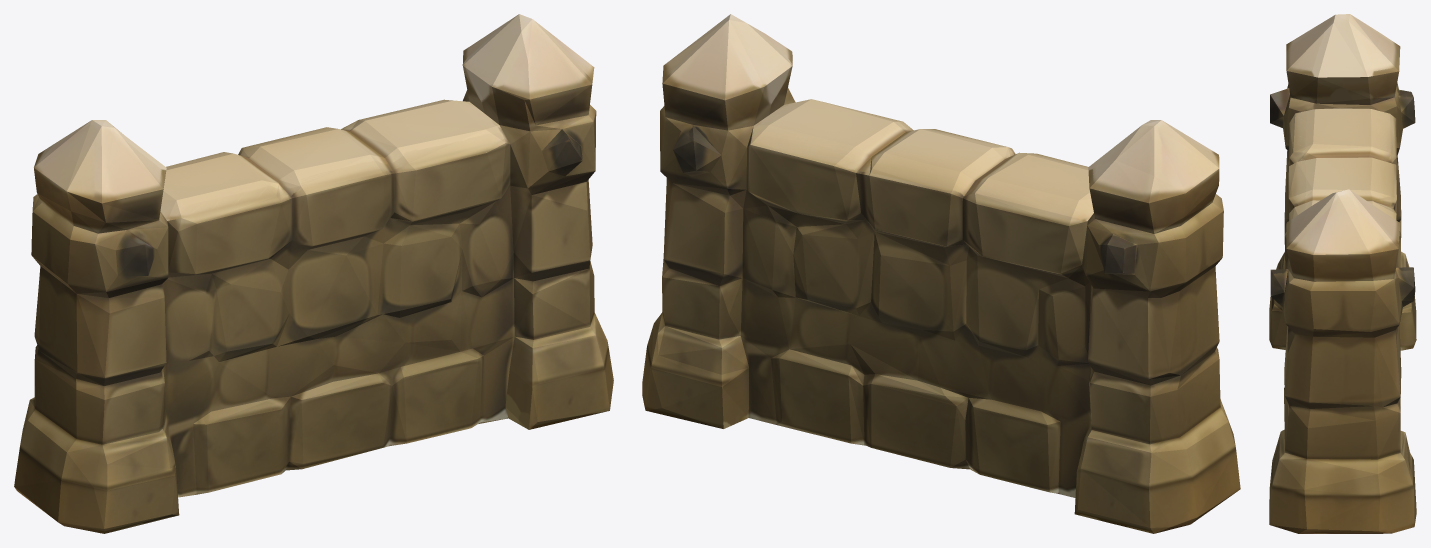
The model's file is lvl_3_wall.glb.
3 views of the same model, side by side, from view 1: azimuth 30°, elevation 25°; view 2: azimuth 150°, elevation 25°; view 3: azimuth 270°, elevation 25° (orthographic). The views are drawn at different scales.
Parts seen in each view (by area): view 1: tmpiwuhfagz.ply; view 2: tmpiwuhfagz.ply; view 3: tmpiwuhfagz.ply.
Boxes of the visible parts, x1=… form: tmpiwuhfagz.ply: x1=14, y1=14, x2=613, y2=533; tmpiwuhfagz.ply: x1=642, y1=14, x2=1240, y2=533; tmpiwuhfagz.ply: x1=1269, y1=14, x2=1416, y2=533.
Bounding box in the file's own units: 1.95 × 1.26 × 0.5265.
1 material, 1 textured.
